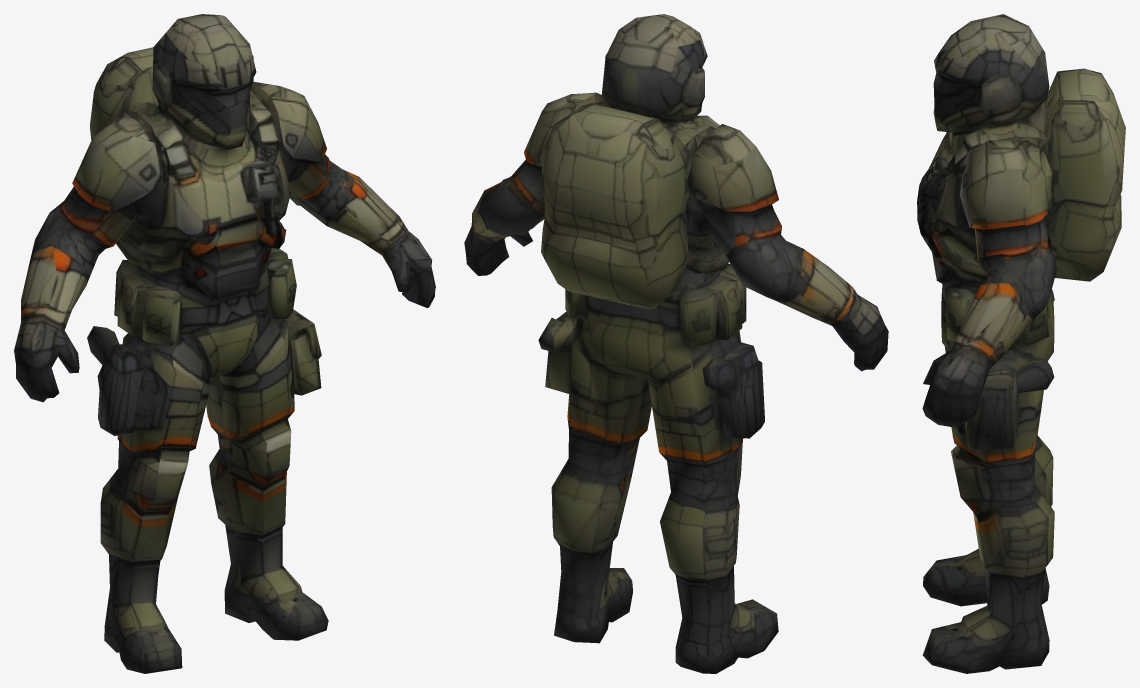
The model's file is infantry-candidate-lod1.glb.
3 renders of one model, left to right at view 1: azimuth 30°, elevation 25°; view 2: azimuth 150°, elevation 25°; view 3: azimuth 270°, elevation 25°, orthographic.
Parts seen in each view (by area): view 1: Candidate_LOD1; view 2: Candidate_LOD1; view 3: Candidate_LOD1.
Part boxes in pixels (box(x1,y1,x2,y2)): Candidate_LOD1: box(14, 14, 435, 673); Candidate_LOD1: box(464, 14, 888, 673); Candidate_LOD1: box(917, 14, 1125, 673).
Size of the model in its own units: 0.3314 by 0.479 by 0.1493.
1 material, 1 textured.
